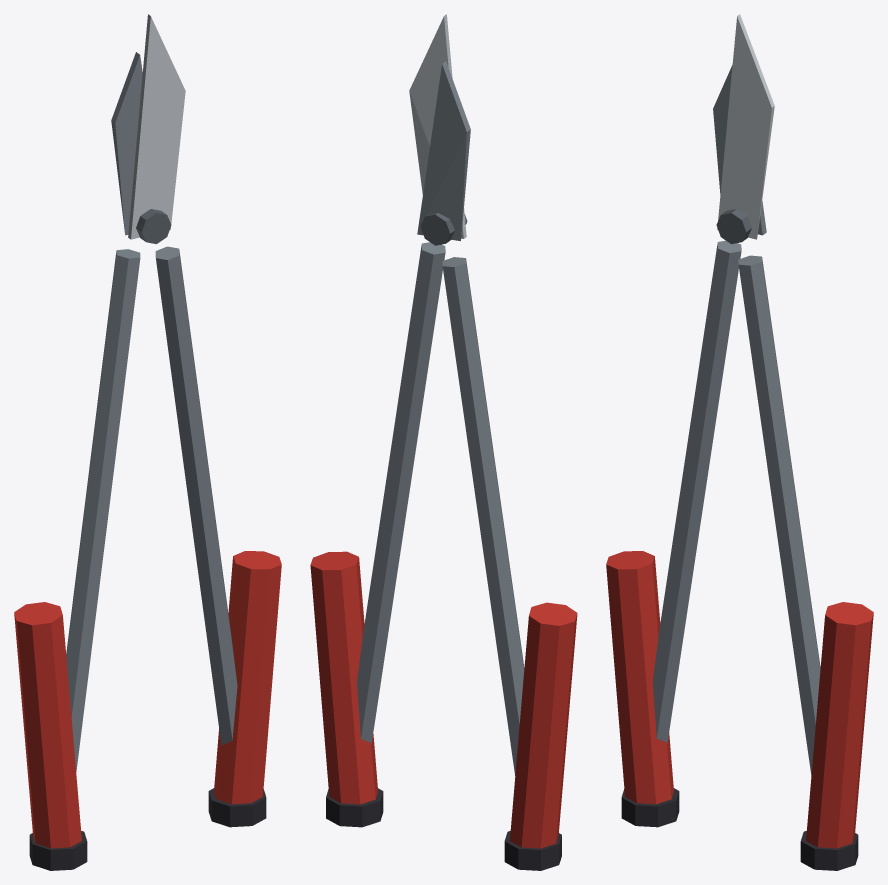
Rendered from tijeras_podar.glb.
3 renders of one model, left to right at view 1: azimuth 30°, elevation 25°; view 2: azimuth 150°, elevation 25°; view 3: azimuth 330°, elevation 25°, orthographic.
Parts seen in each view (by area): view 1: tijeras_podar_acero_osc, tijeras_podar_mango_rojo, tijeras_podar_acero, tijeras_podar_mango_negro, tijeras_podar_metal_osc; view 2: tijeras_podar_acero_osc, tijeras_podar_mango_rojo, tijeras_podar_acero, tijeras_podar_mango_negro, tijeras_podar_metal_osc; view 3: tijeras_podar_acero_osc, tijeras_podar_mango_rojo, tijeras_podar_acero, tijeras_podar_mango_negro, tijeras_podar_metal_osc.
Boxes of the visible parts, left/top/right/bottom form: tijeras_podar_acero_osc: left=66, top=52, right=237, bottom=771; tijeras_podar_mango_rojo: left=14, top=551, right=281, bottom=848; tijeras_podar_acero: left=128, top=14, right=185, bottom=239; tijeras_podar_mango_negro: left=29, top=788, right=266, bottom=870; tijeras_podar_metal_osc: left=136, top=209, right=171, bottom=244; tijeras_podar_acero_osc: left=357, top=61, right=524, bottom=775; tijeras_podar_mango_rojo: left=310, top=551, right=577, bottom=848; tijeras_podar_acero: left=409, top=14, right=466, bottom=238; tijeras_podar_mango_negro: left=326, top=788, right=561, bottom=870; tijeras_podar_metal_osc: left=420, top=213, right=467, bottom=245; tijeras_podar_acero_osc: left=652, top=65, right=820, bottom=775; tijeras_podar_mango_rojo: left=606, top=551, right=873, bottom=848; tijeras_podar_acero: left=717, top=14, right=774, bottom=239; tijeras_podar_mango_negro: left=621, top=788, right=858, bottom=870; tijeras_podar_metal_osc: left=716, top=209, right=751, bottom=244.
Size of the model in its own units: 0.2638 by 0.79 by 0.052.
